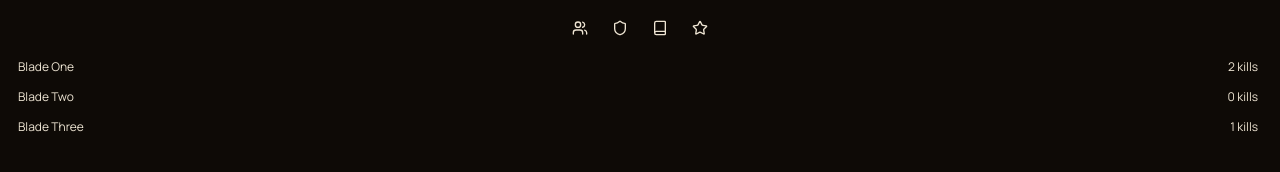
Test case: item rows: a henchmen group's mounts › says which kind a ridden row dismounts while the group rides two kinds
Click the button named "Equipment": (620, 28) [604, 12, 636, 44]
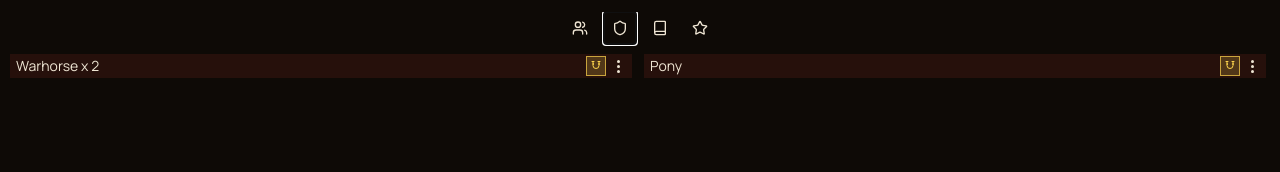
Check: the button named "Warhorse x 2: Black Knives dismount (Warhorse only)" is shown, box [586, 56, 606, 76]
Check: the button named "Pony: Black Knives dismount (Pony only)" is shown, box [1220, 56, 1240, 76]
